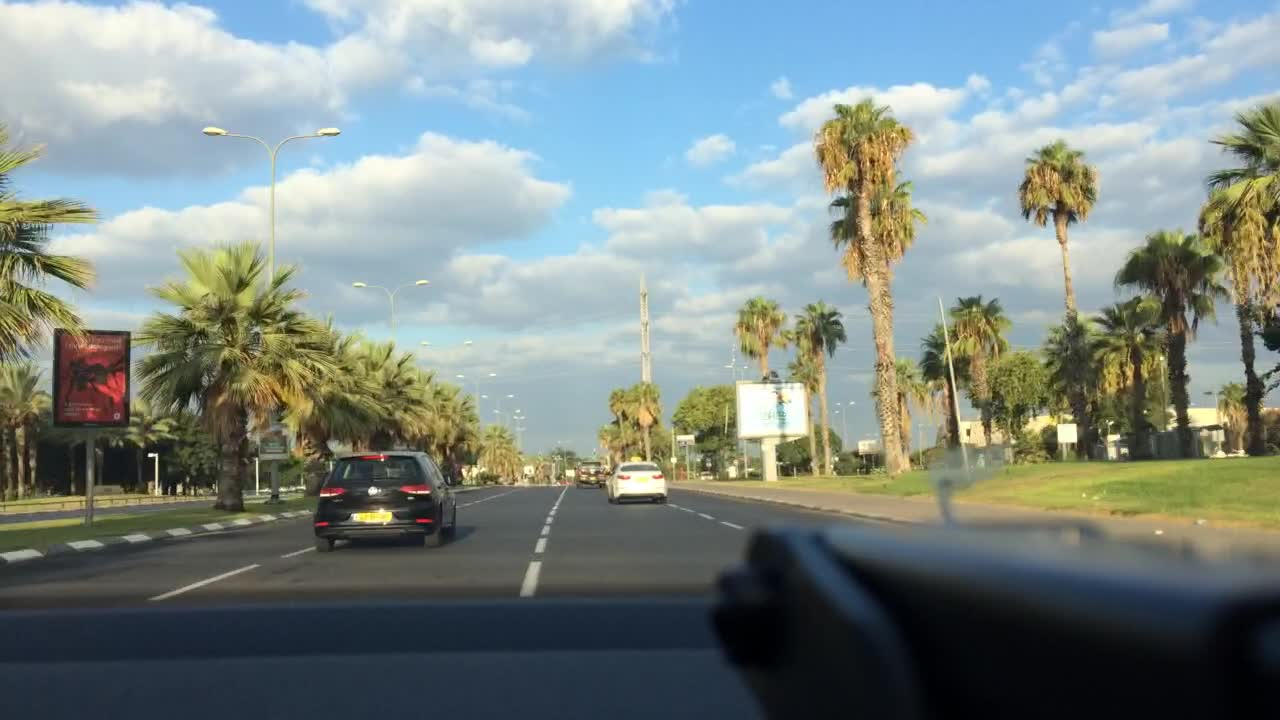car: (309, 448, 459, 552), (606, 459, 670, 503), (574, 459, 607, 488), (698, 469, 713, 479), (258, 485, 273, 493), (286, 484, 296, 496), (277, 484, 289, 493), (295, 484, 307, 492)
traffic sign: (1055, 424, 1078, 440), (629, 453, 645, 459)
